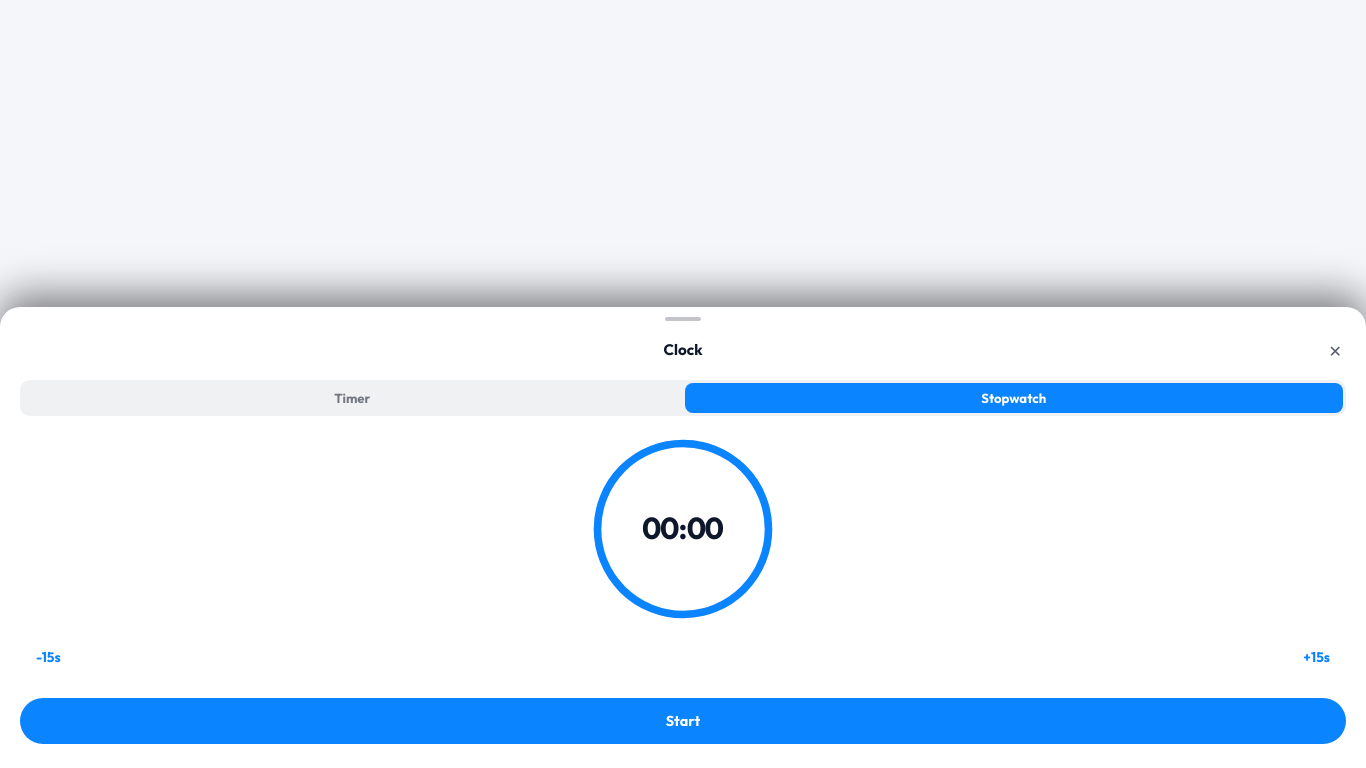
Test: ClockTimerModal while the app is off screen › finishes and beeps once when the timer ran out while away
Click the button "Timer".
click(352, 398)  # box x1=23 y1=383 x2=682 y2=413
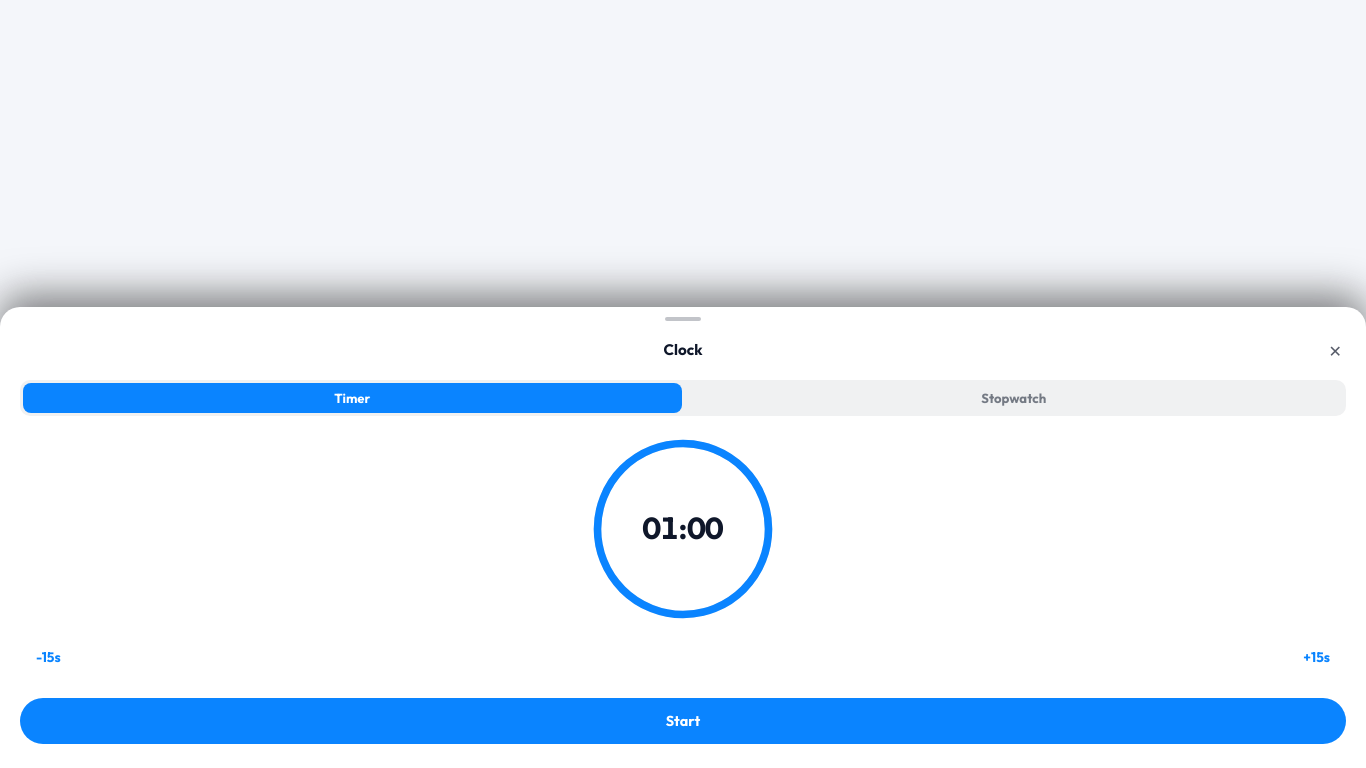
Click the button "Start".
click(683, 721)  # box x1=20 y1=698 x2=1346 y2=744
Wait 3000 ms
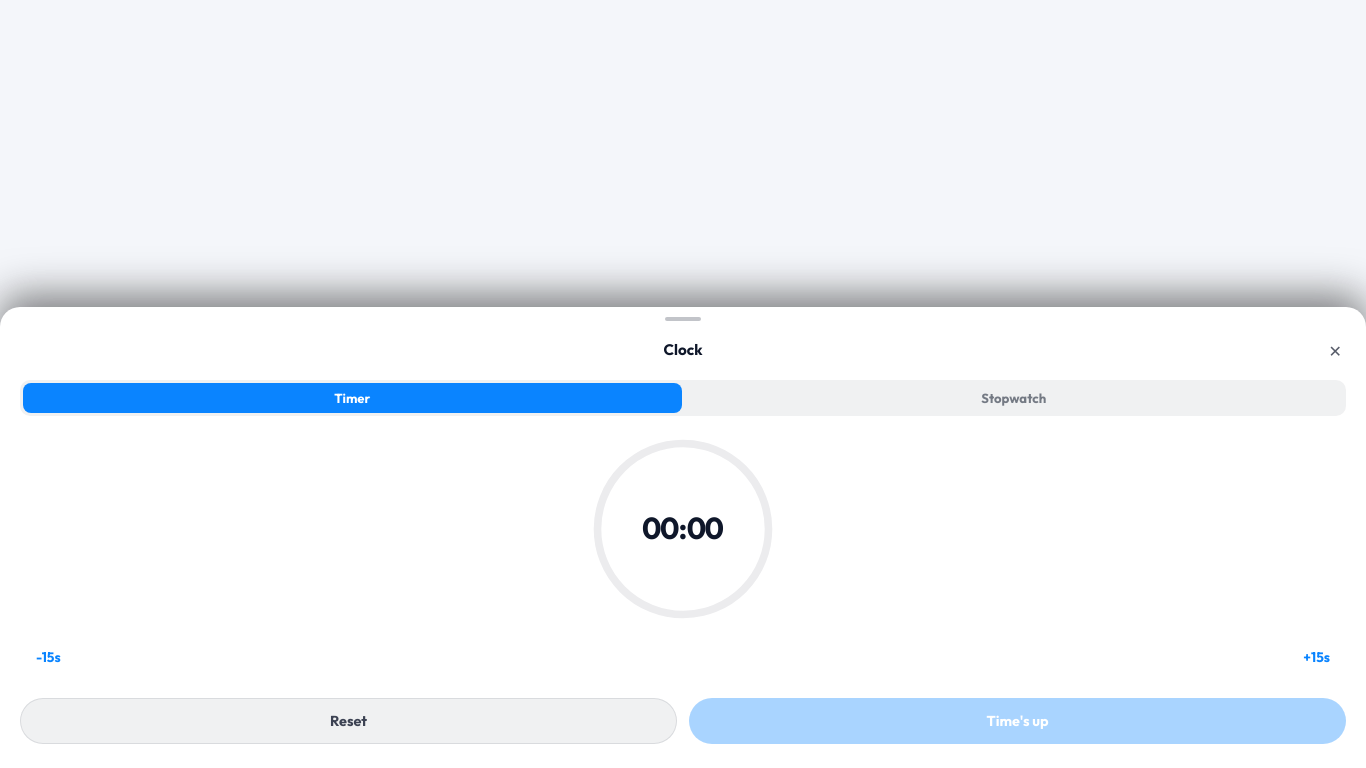
Check: the button "Time's up" is shown, box x1=689 y1=698 x2=1346 y2=744
